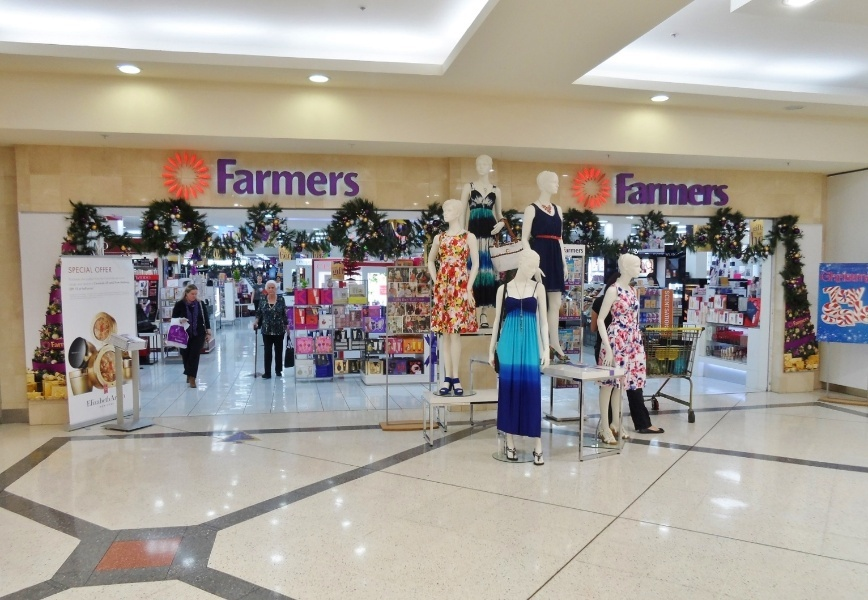text: (833, 286, 848, 330), (849, 286, 864, 330), (225, 159, 240, 199), (241, 159, 256, 199), (257, 159, 272, 199), (273, 159, 288, 199), (289, 159, 304, 199), (305, 159, 320, 199), (321, 159, 336, 199), (337, 159, 352, 199), (819, 286, 832, 330), (625, 173, 640, 207), (641, 173, 656, 207), (657, 173, 672, 207), (673, 173, 688, 207), (689, 173, 704, 207), (705, 173, 720, 207), (721, 173, 731, 207), (615, 173, 624, 207), (353, 159, 360, 199), (665, 291, 672, 327), (218, 159, 224, 199), (833, 270, 848, 284), (849, 270, 864, 284), (820, 270, 832, 284), (97, 395, 111, 407), (337, 264, 347, 278), (865, 286, 868, 330), (753, 222, 764, 234), (87, 395, 96, 407), (97, 266, 112, 273), (67, 267, 80, 274), (81, 281, 96, 287), (97, 281, 112, 287), (113, 281, 128, 287), (81, 276, 96, 282), (97, 276, 112, 282), (81, 267, 93, 274), (113, 276, 127, 282), (321, 263, 331, 271), (67, 276, 80, 282), (401, 297, 416, 302), (81, 287, 96, 292), (564, 247, 576, 253), (280, 251, 288, 260), (68, 281, 80, 287), (68, 287, 80, 292), (332, 264, 336, 278), (417, 297, 428, 302), (113, 393, 118, 403), (177, 338, 185, 344), (135, 276, 144, 281), (577, 247, 584, 253), (392, 297, 400, 302), (145, 276, 153, 281), (132, 266, 144, 269), (316, 263, 320, 271), (145, 266, 155, 269), (145, 262, 151, 266), (139, 262, 144, 266), (289, 251, 291, 260), (865, 270, 866, 284), (751, 222, 752, 234), (129, 281, 131, 287), (174, 338, 176, 344), (111, 393, 112, 403), (95, 266, 96, 273)
